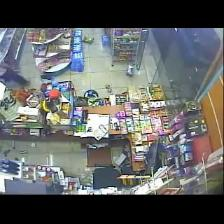person: (0, 63, 29, 87)
